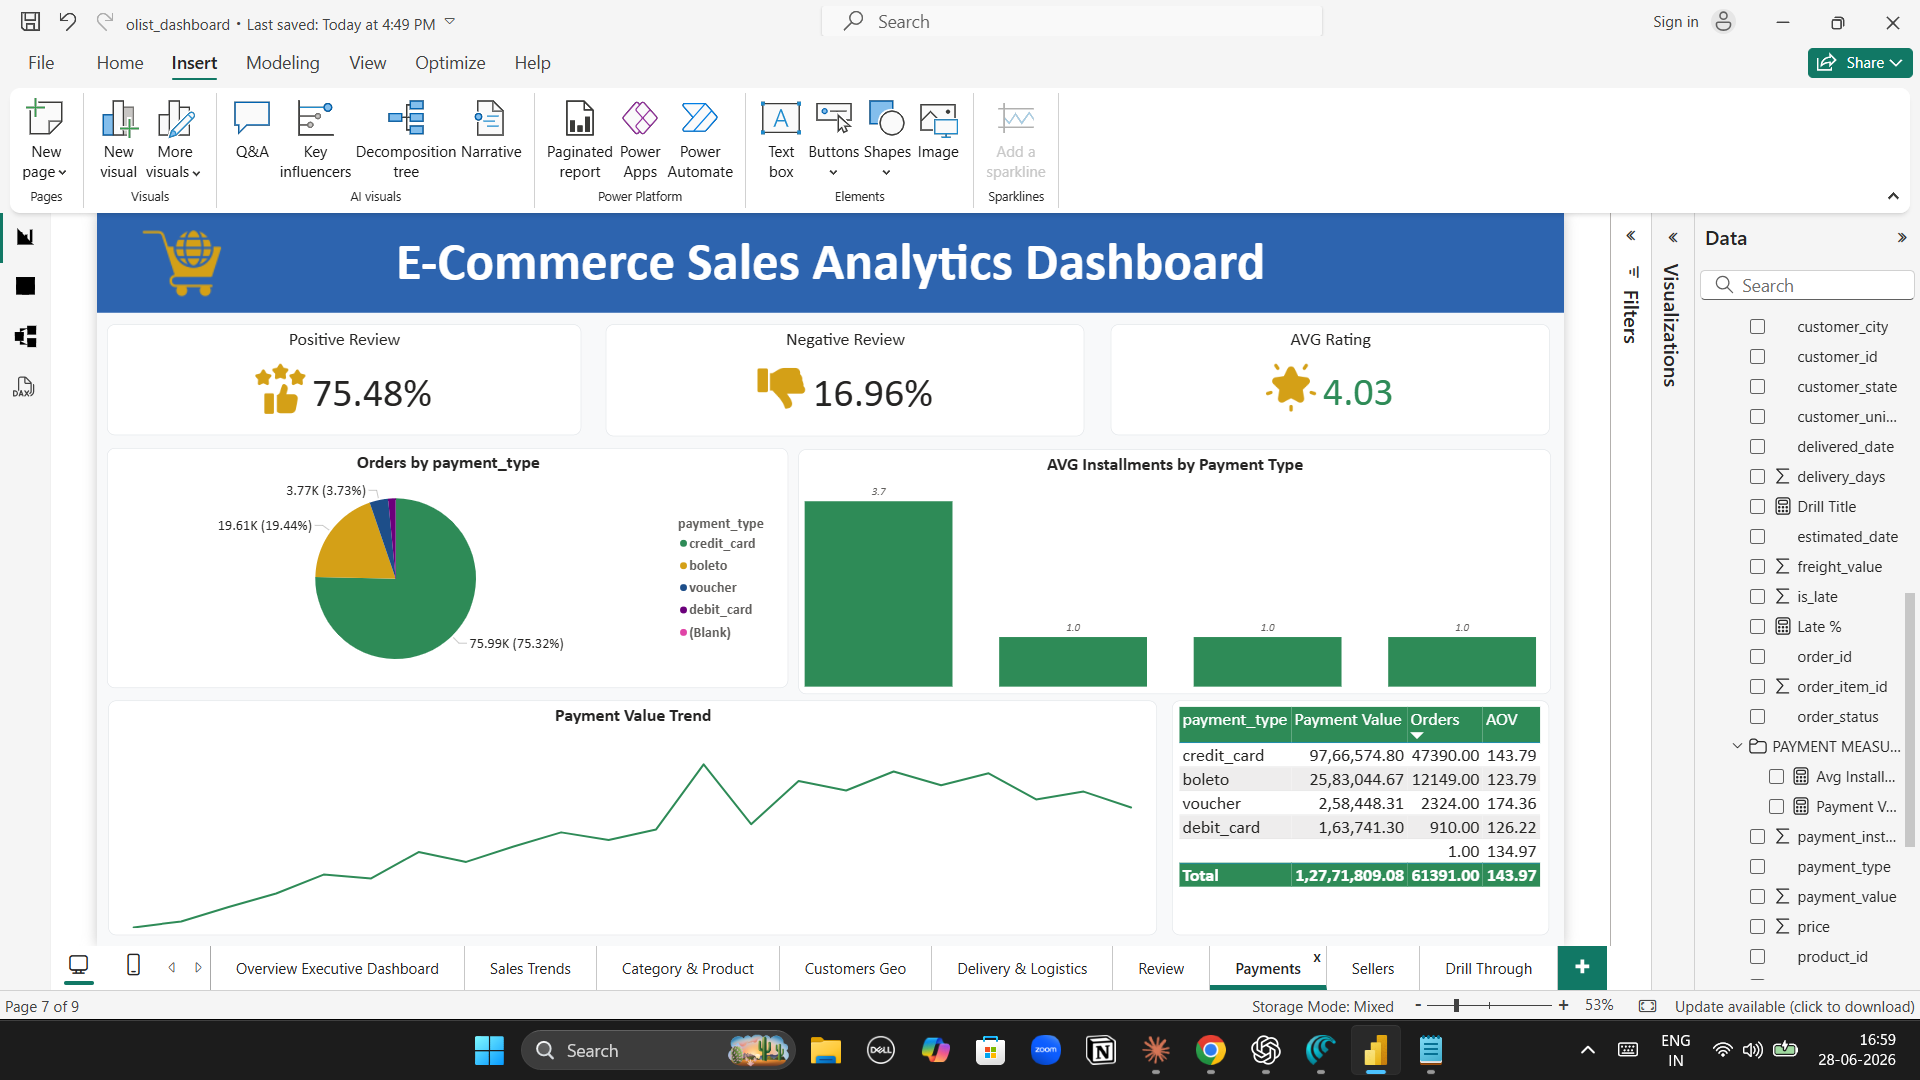

The page's visual inventory and layout, read from the dashboard file:
{"tool":"powerbi","page":{"name":"Payments","canvas":[2200,1100],"ordinal":6},"visuals":[{"type":"cardVisual","title":"Positive Review","fields":{"Data":["public bi_fact_sales.Positive Reviews %"]},"box":[15.3,166.7,710.9,166.7],"z":0},{"type":"cardVisual","title":"Negative Review","fields":{"Data":["public bi_fact_sales.Negative Reviews %"]},"box":[763.6,166.7,717.7,168.4],"z":1000},{"type":"cardVisual","title":"AVG Rating","fields":{"Data":["public bi_fact_sales.AVG Rating"]},"box":[1520.4,166.7,658.2,166.7],"z":2000},{"type":"pieChart","fields":{"Y":["public bi_fact_sales.Orders"],"Category":["public bi_fact_sales.payment_type"]},"box":[15,352.4,1021.6,359.9],"z":3000},{"type":"columnChart","title":"AVG Installments by Payment Type","fields":{"Y":["public bi_fact_sales.Avg Installments"],"Category":["public bi_fact_sales.payment_type"]},"box":[1051.6,354.3,1128.5,367.4],"z":4000},{"type":"textbox","box":[0,0,2200.8,150],"z":5000},{"type":"image","box":[63.7,9.4,127.5,131.2],"z":6000},{"type":"lineChart","title":"Payment Value Trend","fields":{"Y":["public bi_fact_sales.Payment Value"],"Category":["DimDate.Year-Month"]},"box":[16,731.5,1572.9,351.7],"z":7000},{"type":"tableEx","title":"Payment Value Trend","fields":{"Values":["public bi_fact_sales.payment_type","public bi_fact_sales.Payment Value","public bi_fact_sales.Orders","public bi_fact_sales.AOV"]},"box":[1612.8,731.5,565.6,351.7],"z":7001}]}

Visuals, with their boxes on the page's 2200x1100 design canvas (x1, y1, x2, y2). These are canvas units, not pixel positions in the 1920x1080 screenshot, which may show the page scaled, cropped or inside an application window:
"Positive Review" cardVisual: left=15, top=167, right=726, bottom=333
"Negative Review" cardVisual: left=764, top=167, right=1481, bottom=335
"AVG Rating" cardVisual: left=1520, top=167, right=2179, bottom=333
pieChart - public bi_fact_sales.Orders x public bi_fact_sales.payment_type: left=15, top=352, right=1037, bottom=712
"AVG Installments by Payment Type" columnChart: left=1052, top=354, right=2180, bottom=722
textbox: left=0, top=0, right=2201, bottom=150
image: left=64, top=9, right=191, bottom=141
"Payment Value Trend" lineChart: left=16, top=732, right=1589, bottom=1083
"Payment Value Trend" tableEx: left=1613, top=732, right=2178, bottom=1083
